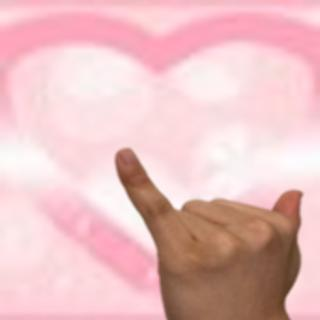HAVE: (109, 140, 320, 320)
